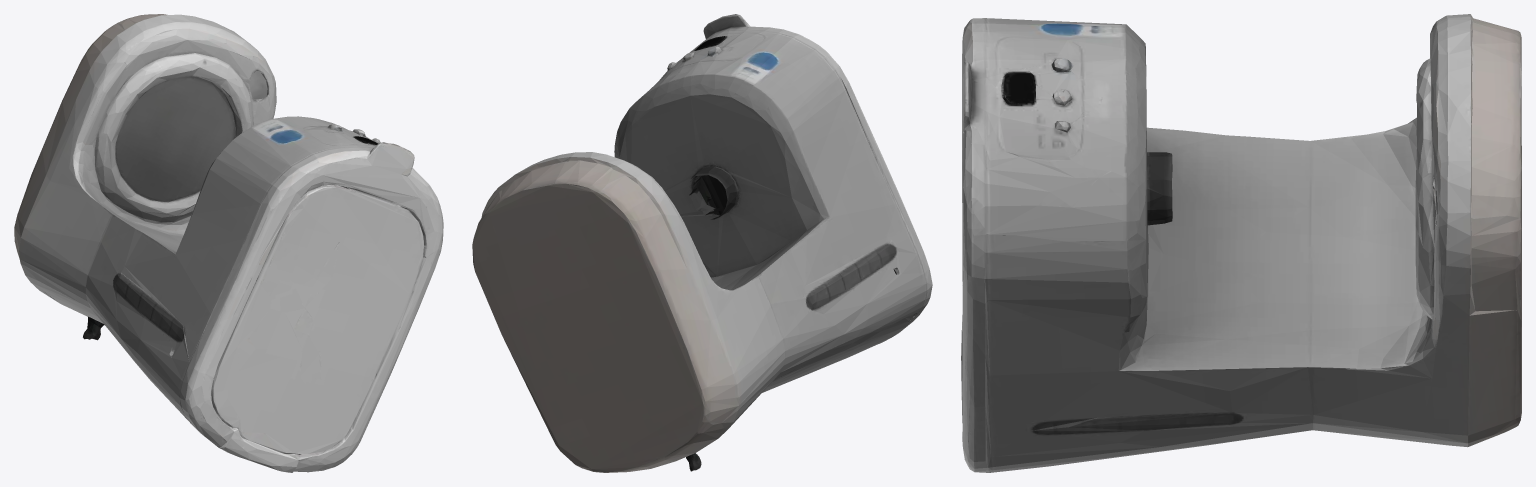
The picture shows the model from 3 angles, left to right: view 1: azimuth 30°, elevation 25°; view 2: azimuth 150°, elevation 25°; view 3: azimuth 270°, elevation 25°; orthographic projection. The views are drawn at different scales.
Visible parts, largest first — view 1: geometry_0; view 2: geometry_0; view 3: geometry_0.
Part boxes in pixels (<box>): geometry_0: <box>14,14,443,472</box>; geometry_0: <box>472,14,932,472</box>; geometry_0: <box>961,14,1521,472</box>.
Size of the model in its own units: 0.2283 by 0.2664 by 0.3049.
Materials: 1 (1 with a texture image).
